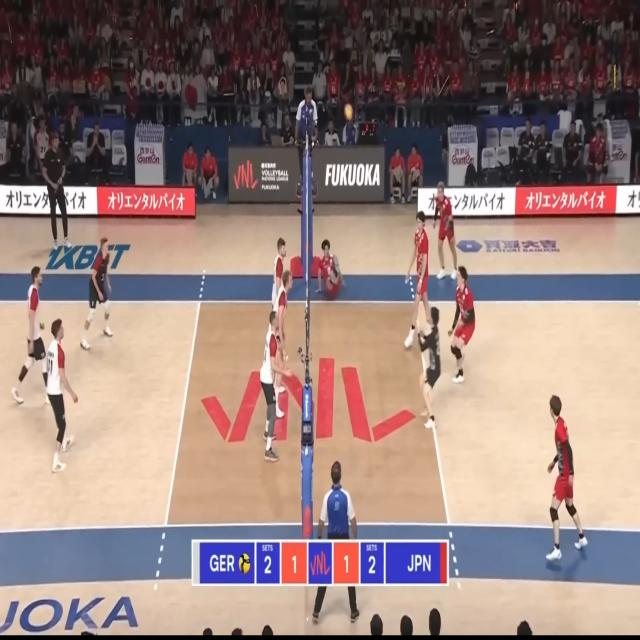ball: (344, 102, 353, 121)
